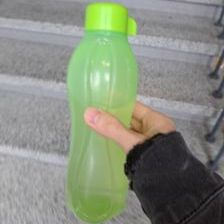bottle: (62, 1, 139, 224)
